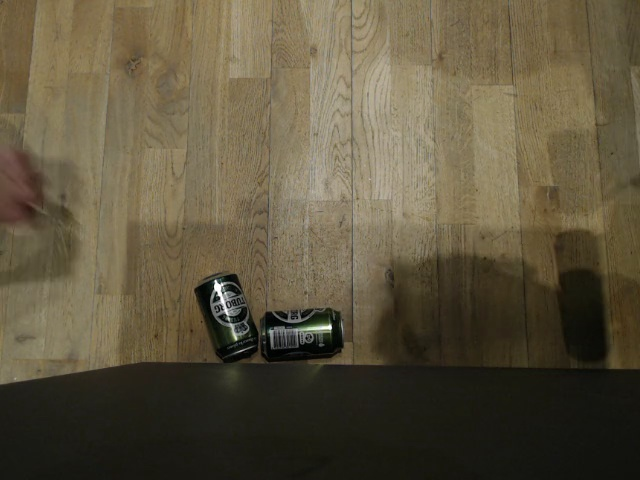beer: (193, 269, 257, 361), (260, 305, 343, 362)
